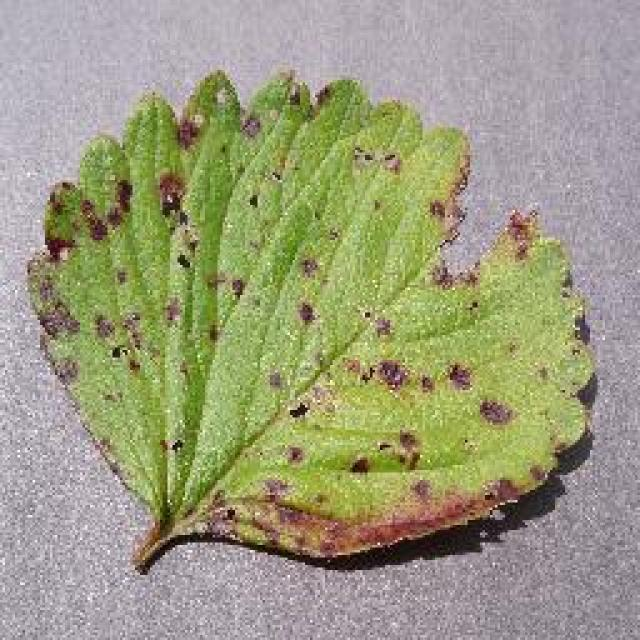Strawberry leaf scorch: (75, 165, 455, 457)
